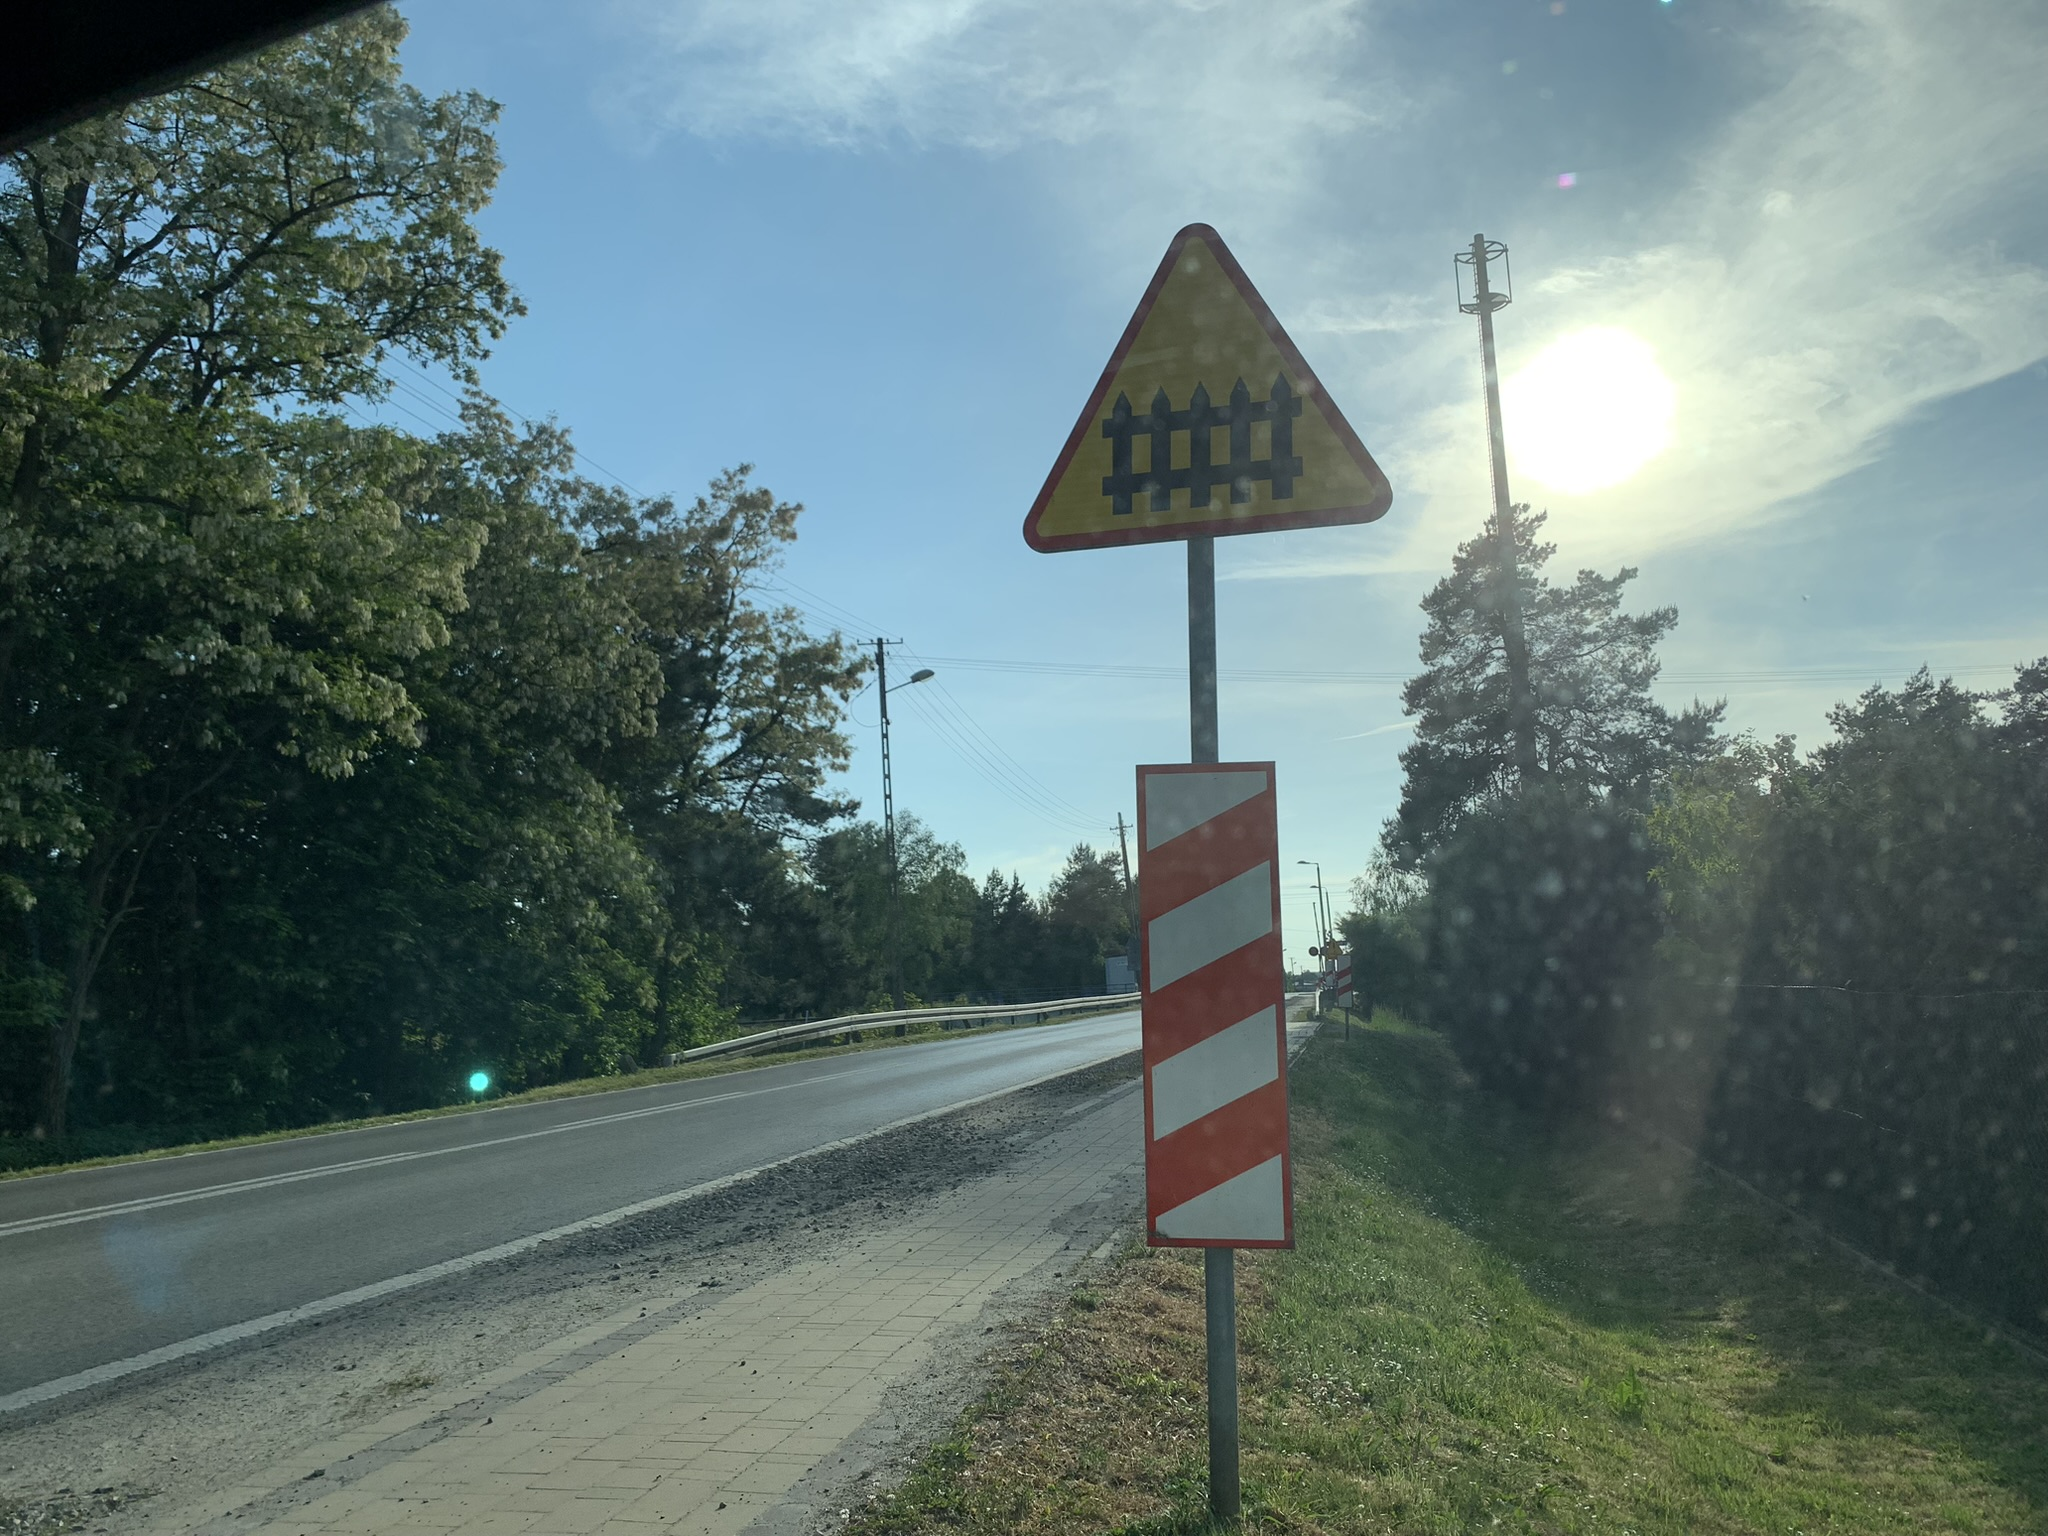a9: (1089, 369, 1321, 521)
